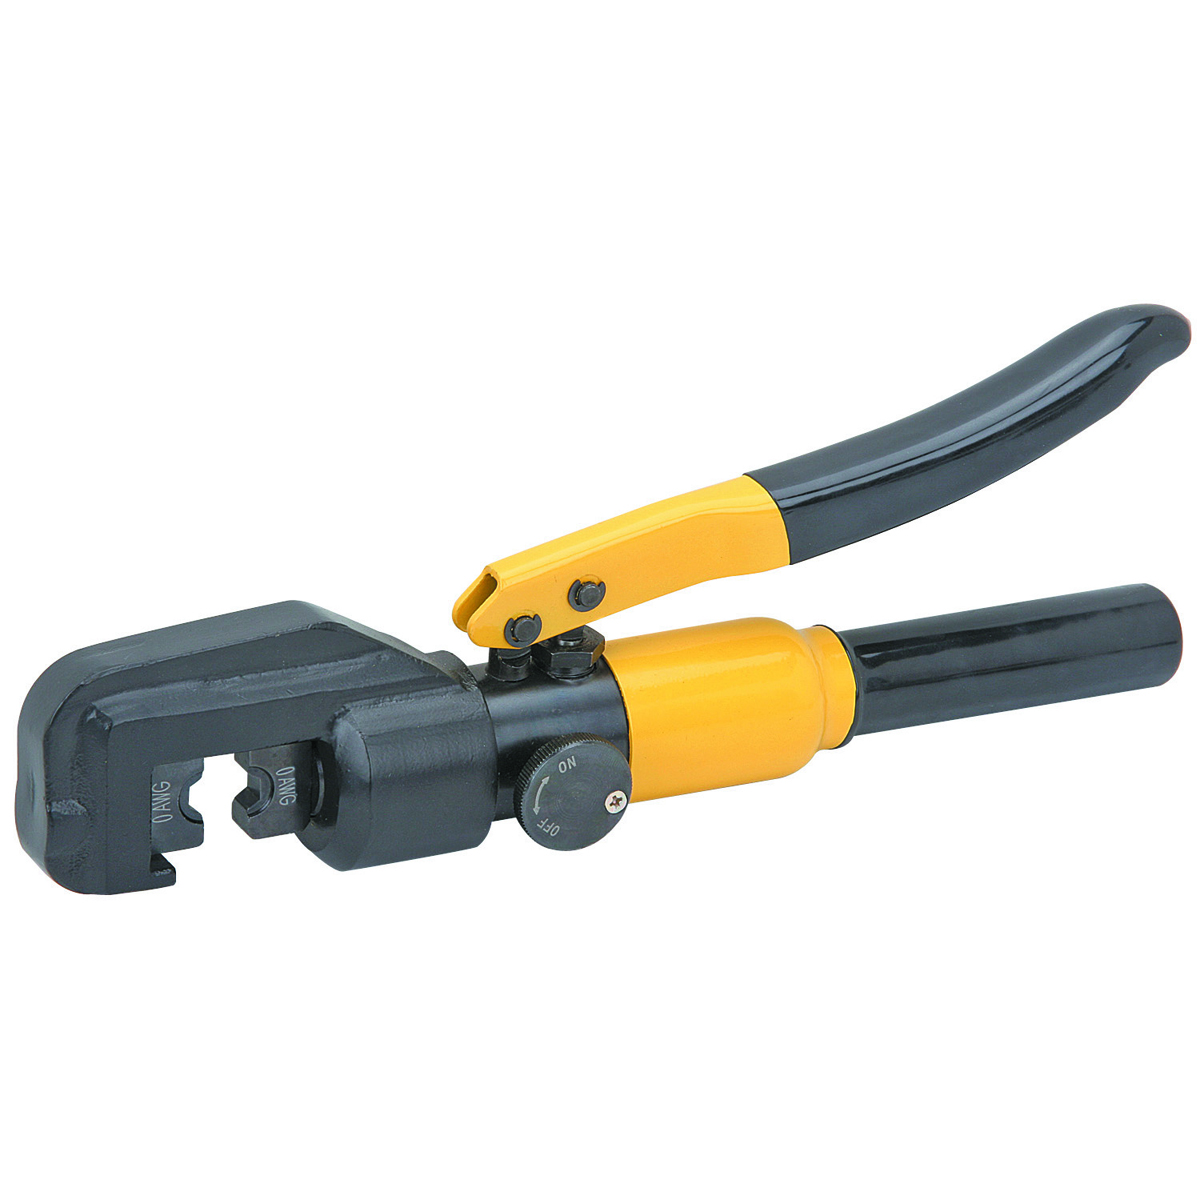Nonrec_Tangler: (45, 275, 1159, 941)
